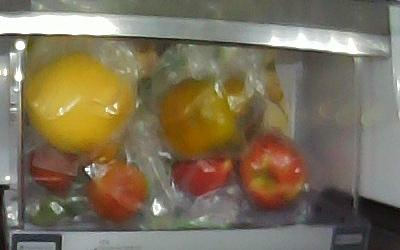apple_vinyl: (239, 136, 305, 207), (171, 155, 233, 198)
grapefruit_vinyl: (27, 52, 132, 150)
persimmon_vinyl: (161, 82, 238, 155)
prune_vinyl: (88, 162, 145, 219), (28, 145, 79, 193)
